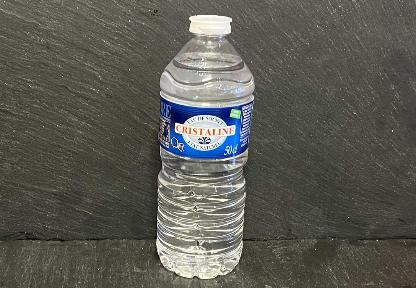Plastic Bottle: (156, 14, 254, 280)
